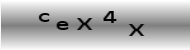4: (102, 10, 117, 24)
X: (127, 22, 145, 37), (76, 16, 93, 31)
c: (37, 12, 50, 23)
e: (55, 20, 69, 31)
